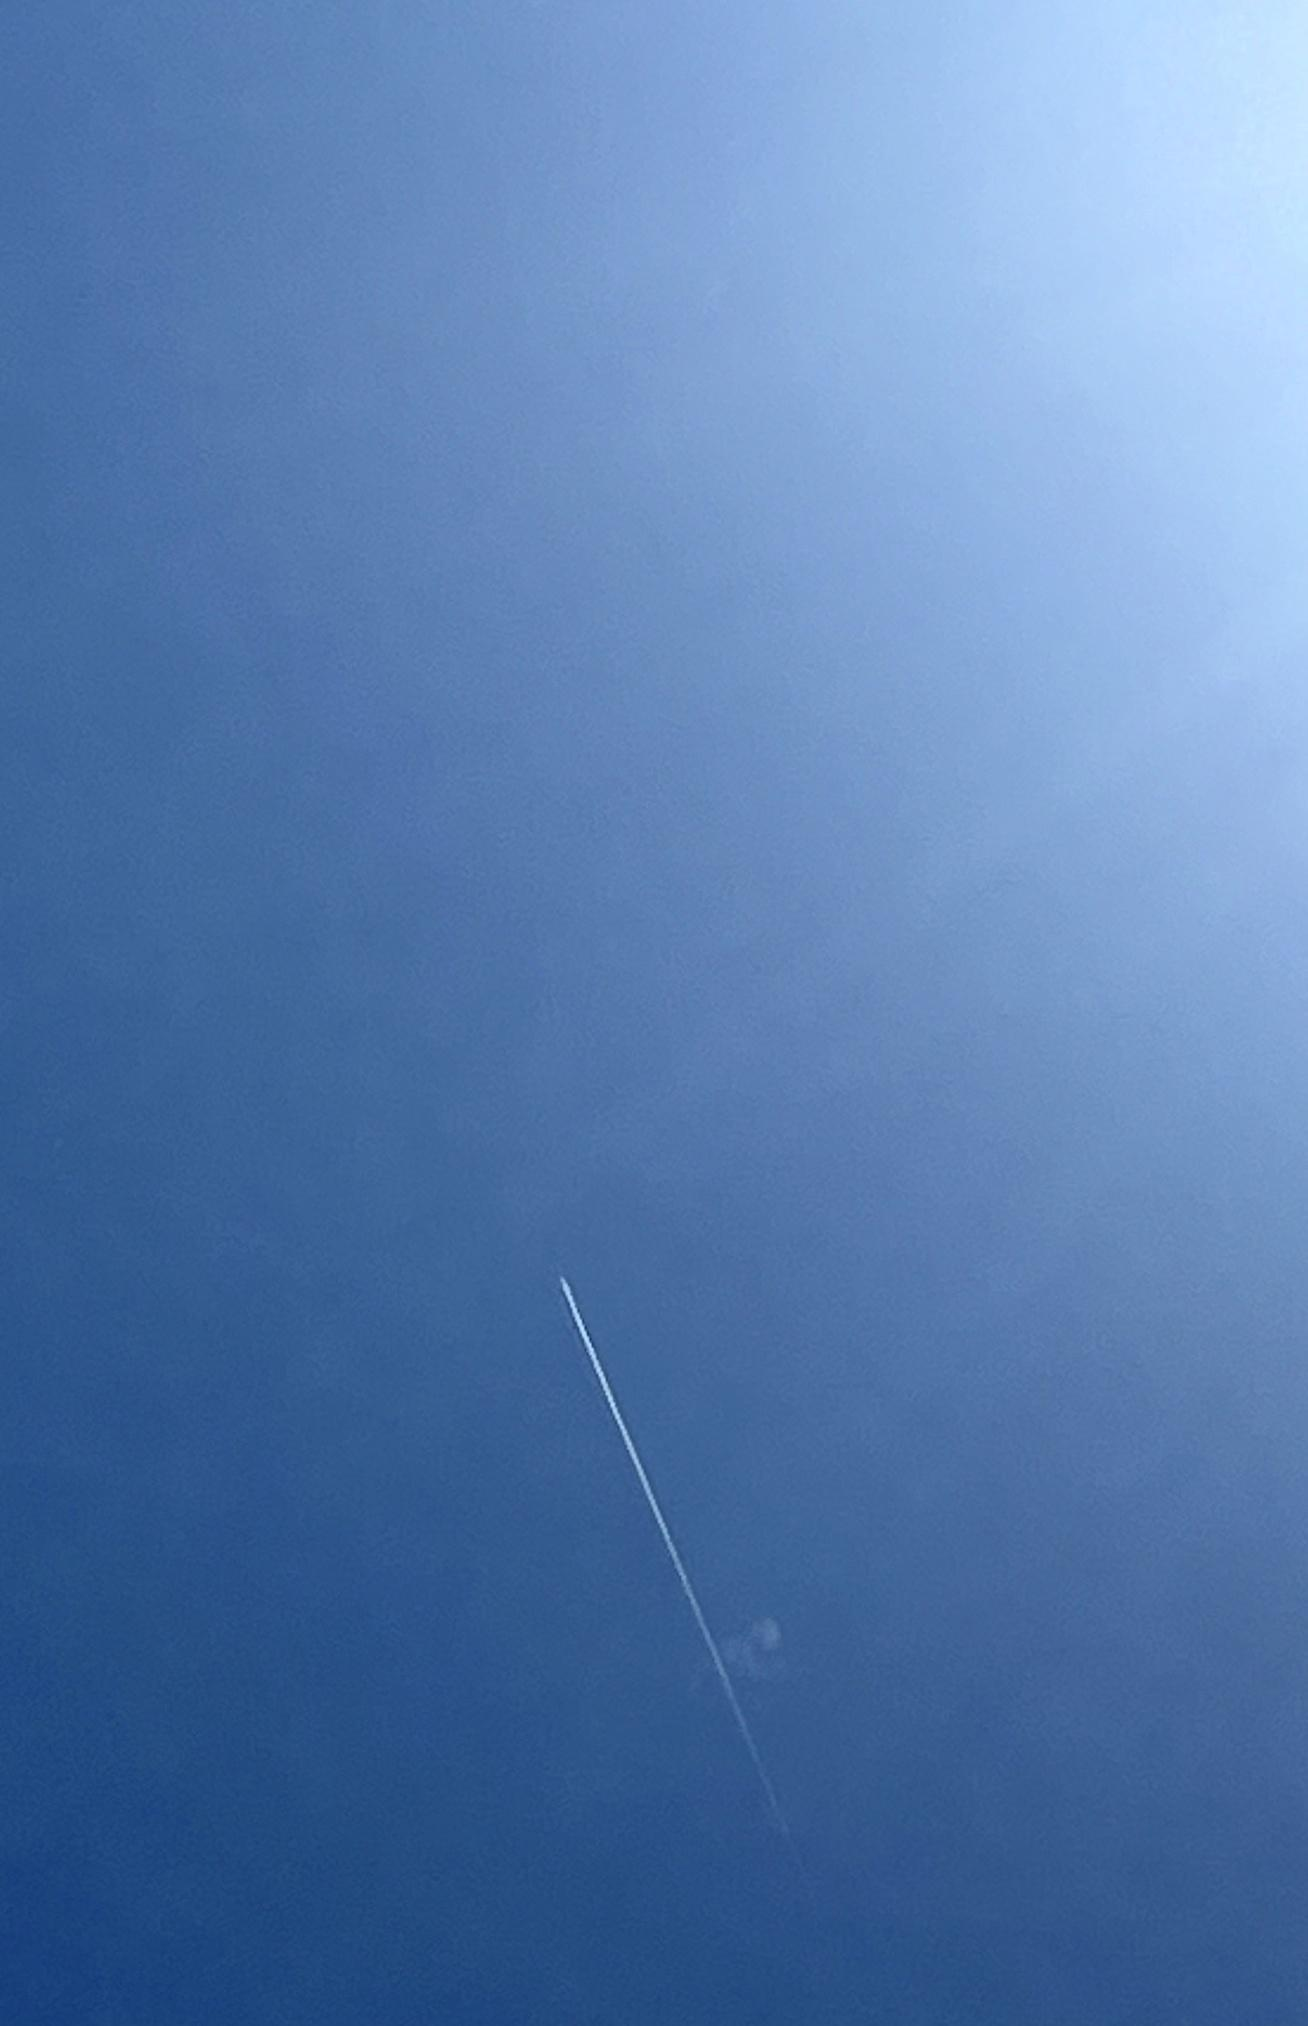Plane: (533, 1257, 850, 1828)
